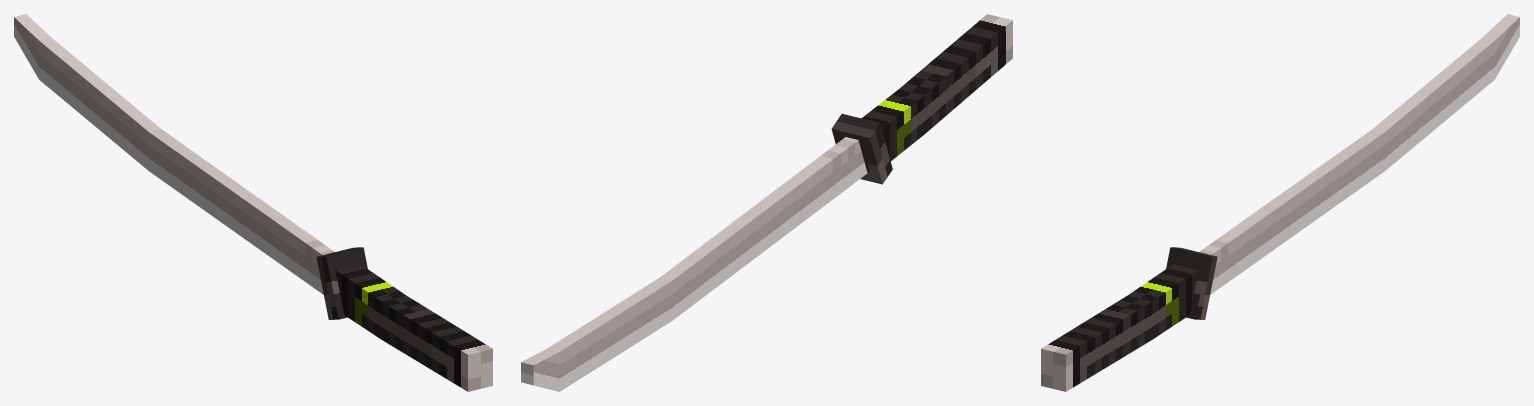
The model's file is overian.fbx.
3 renders of one model, left to right at view 1: azimuth 30°, elevation 25°; view 2: azimuth 150°, elevation 25°; view 3: azimuth 330°, elevation 25°, orthographic. The views are drawn at different scales.
Parts seen in each view (by area): view 1: cube_1, cube, cube_2; view 2: cube_1, cube, cube_2; view 3: cube_1, cube, cube_2.
Part boxes in pixels (bbox=[...]): cube_1: bbox=[14, 14, 334, 294]; cube: bbox=[335, 264, 492, 391]; cube_2: bbox=[316, 247, 367, 319]; cube_1: bbox=[521, 137, 867, 391]; cube: bbox=[861, 14, 1012, 161]; cube_2: bbox=[831, 113, 892, 184]; cube_1: bbox=[1199, 14, 1519, 294]; cube: bbox=[1041, 264, 1198, 391]; cube_2: bbox=[1166, 247, 1217, 319].
Size of the model in its own units: 18.75 by 29.57 by 400.
1 material, 1 textured.
